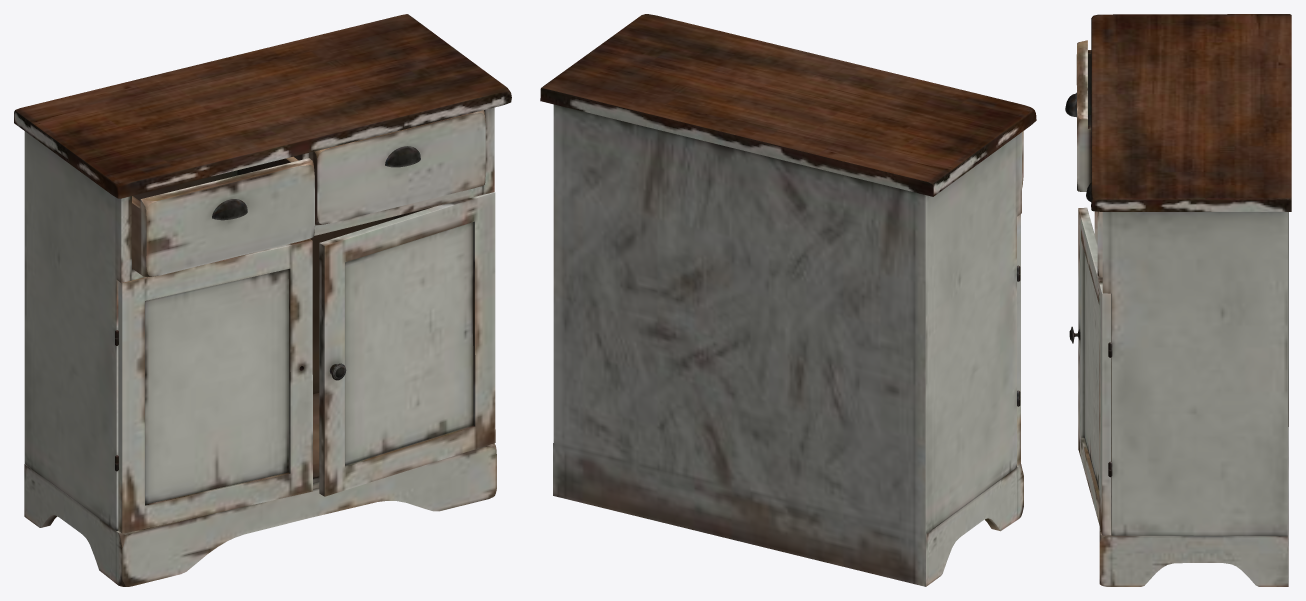
File: cupboard.glb
The picture shows the model from 3 angles, left to right: view 1: azimuth 30°, elevation 25°; view 2: azimuth 150°, elevation 25°; view 3: azimuth 270°, elevation 25°; orthographic projection. The views are drawn at different scales.
Visible parts, largest first — view 1: painted_wooden_cabinet, painted_wooden_cabinet_door_01, painted_wooden_cabinet_door_02, painted_wooden_cabinet_drawer_01, painted_wooden_cabinet_drawer_02; view 2: painted_wooden_cabinet, painted_wooden_cabinet_door_01; view 3: painted_wooden_cabinet, painted_wooden_cabinet_door_02, painted_wooden_cabinet_drawer_01, painted_wooden_cabinet_drawer_02.
Boxes of the visible parts, bbox=[...] form: painted_wooden_cabinet: bbox=[14, 14, 511, 586]; painted_wooden_cabinet_door_01: bbox=[118, 238, 312, 533]; painted_wooden_cabinet_door_02: bbox=[319, 192, 495, 496]; painted_wooden_cabinet_drawer_01: bbox=[132, 156, 314, 277]; painted_wooden_cabinet_drawer_02: bbox=[313, 110, 485, 224]; painted_wooden_cabinet: bbox=[540, 14, 1036, 586]; painted_wooden_cabinet_door_01: bbox=[1017, 214, 1020, 465]; painted_wooden_cabinet: bbox=[1091, 14, 1291, 586]; painted_wooden_cabinet_door_02: bbox=[1069, 207, 1110, 535]; painted_wooden_cabinet_drawer_01: bbox=[1065, 40, 1091, 191]; painted_wooden_cabinet_drawer_02: bbox=[1086, 183, 1102, 277].
Size of the model in its own units: 1.19 by 1.18 by 0.6166.
1 material, 1 textured.
